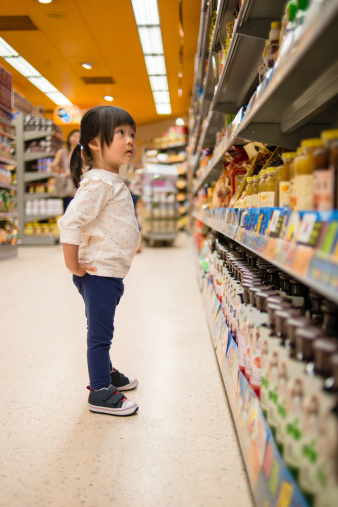em pe: (45, 117, 161, 404)
